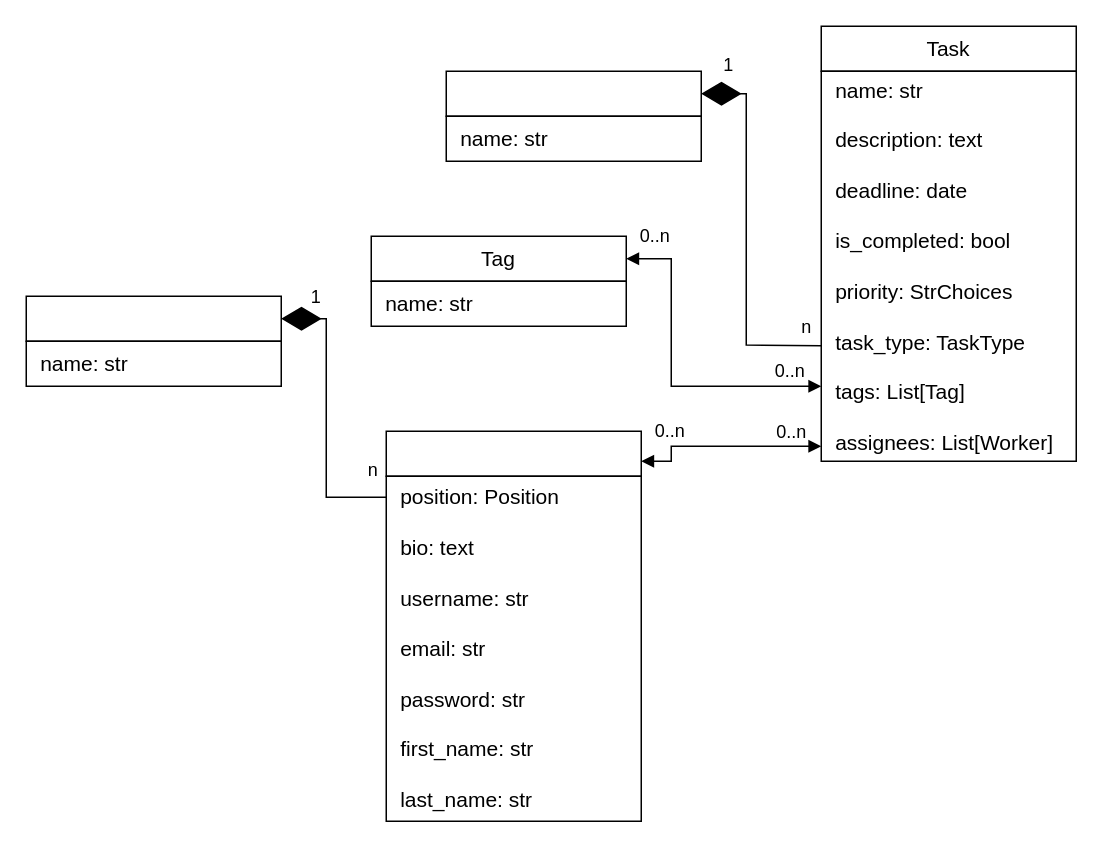
Image size: 1103x848. Some labels were removed from this diagram. Each missing label, with the centre of its shape:
Position: point 153,318
TaskType: point 573,93
Worker(AbstractUser): point 513,453
